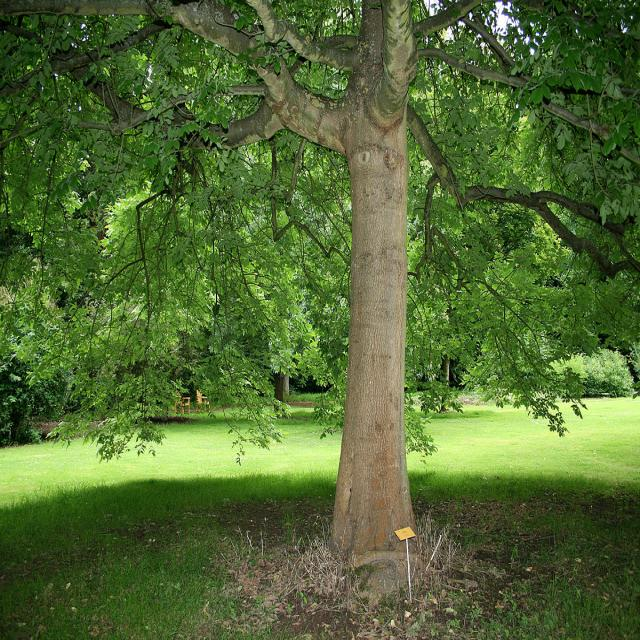Fraxinus latifolia: (0, 0, 638, 565)
